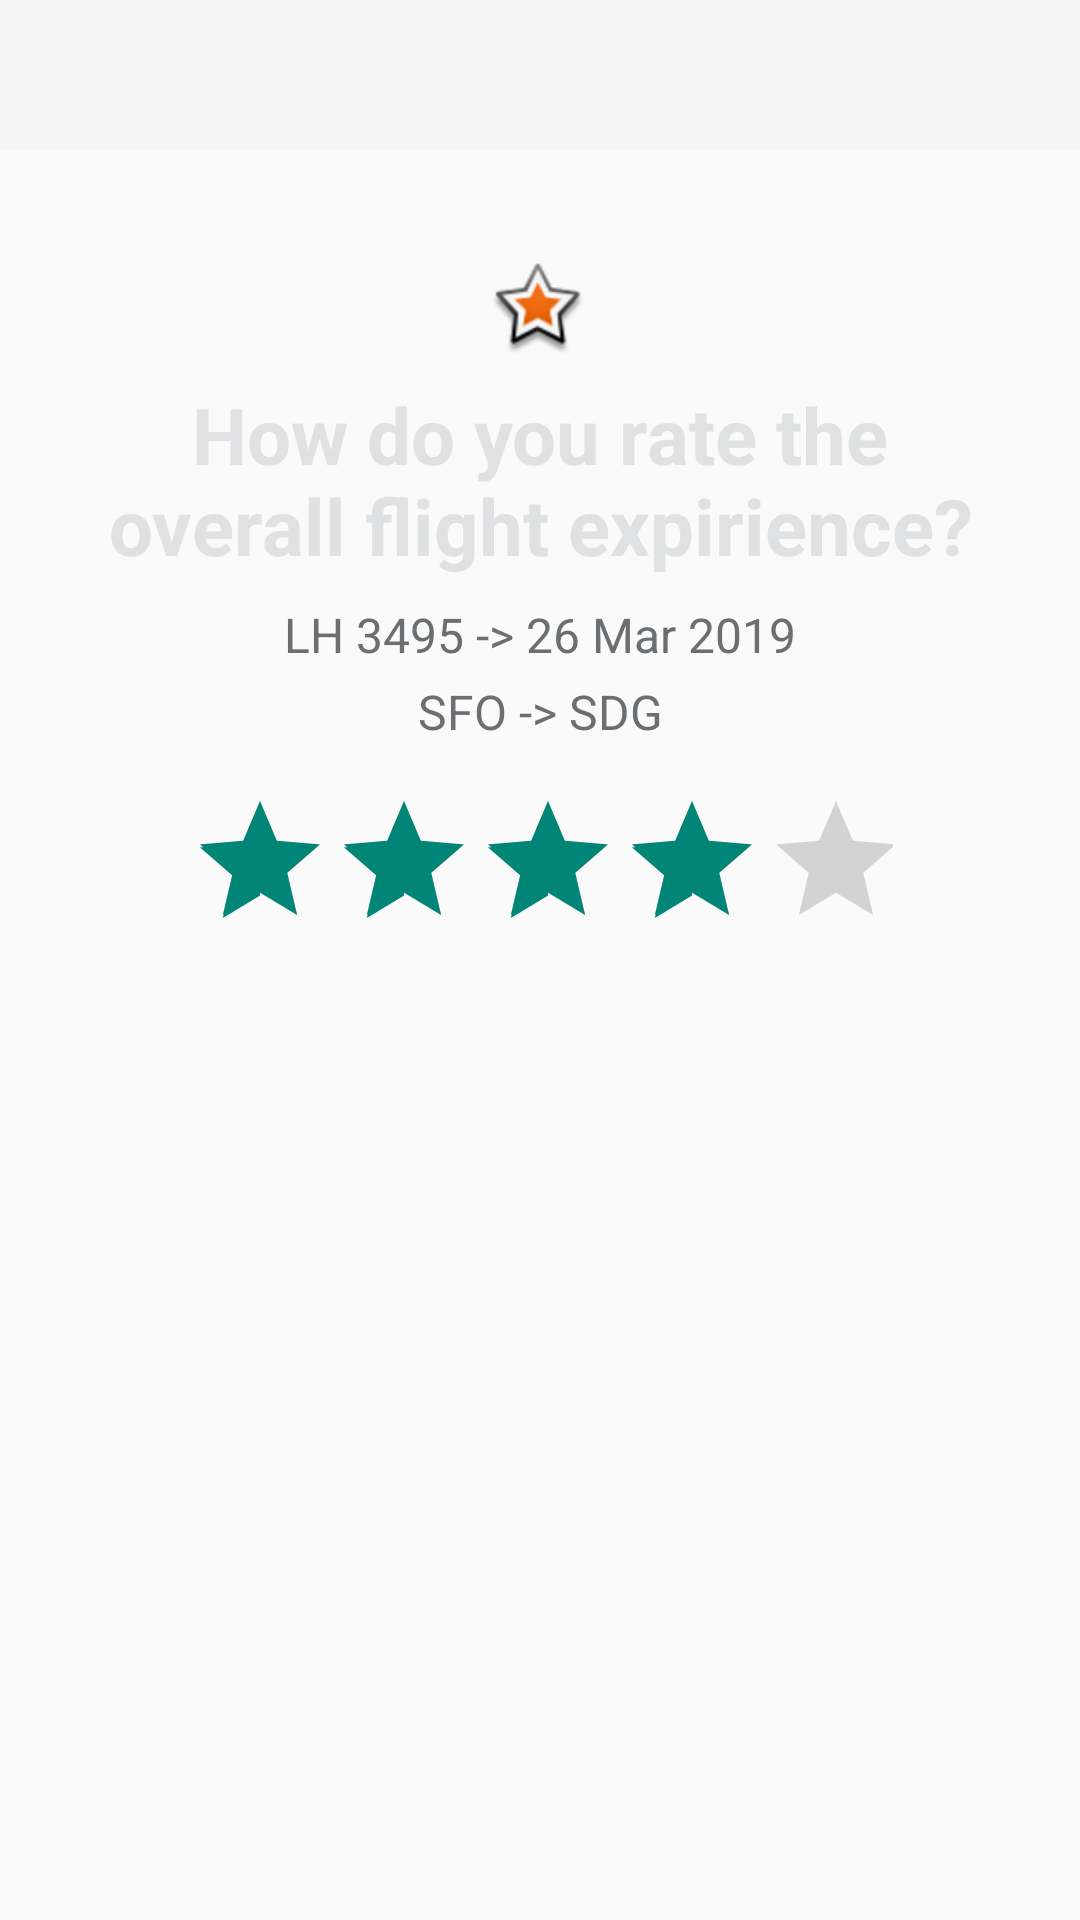

Where icons sit on this 1080px x 1920px app screen, as [x1, y1, x2, y2]:
star on: [495, 263, 581, 350]
